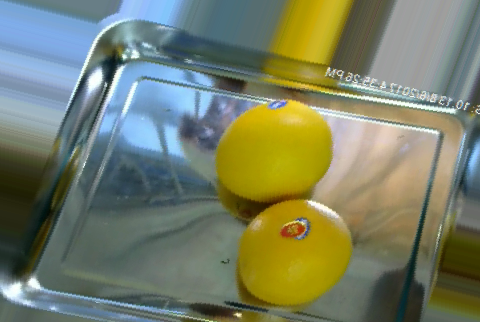Orange: (213, 99, 333, 204), (237, 198, 354, 305)
